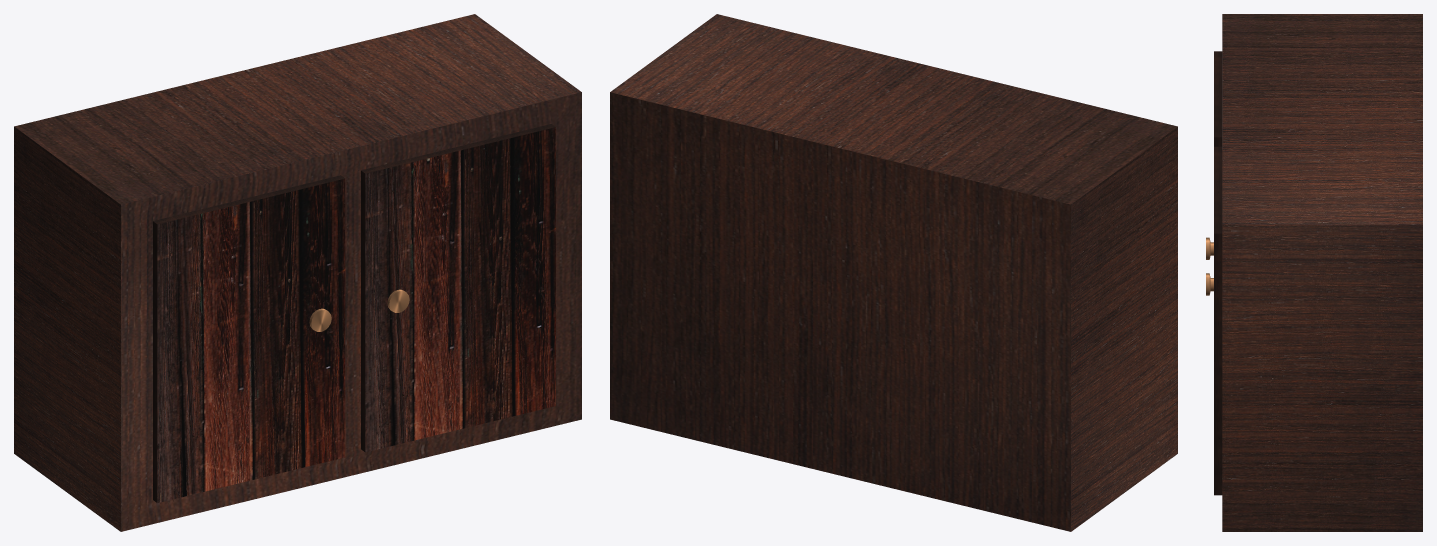
The model's file is Cabinet.fbx.
The picture shows the model from 3 angles, left to right: view 1: azimuth 30°, elevation 25°; view 2: azimuth 150°, elevation 25°; view 3: azimuth 270°, elevation 25°; orthographic projection. The views are drawn at different scales.
Visible parts, largest first — view 1: Cabinet; view 2: Cabinet; view 3: Cabinet.
Boxes of the visible parts, x1,y1,x2,y2 form: Cabinet: (14,14,581,531); Cabinet: (610,14,1177,531); Cabinet: (1206,14,1422,531).
Size of the model in its own units: 2.87 by 1.95 by 1.25.
